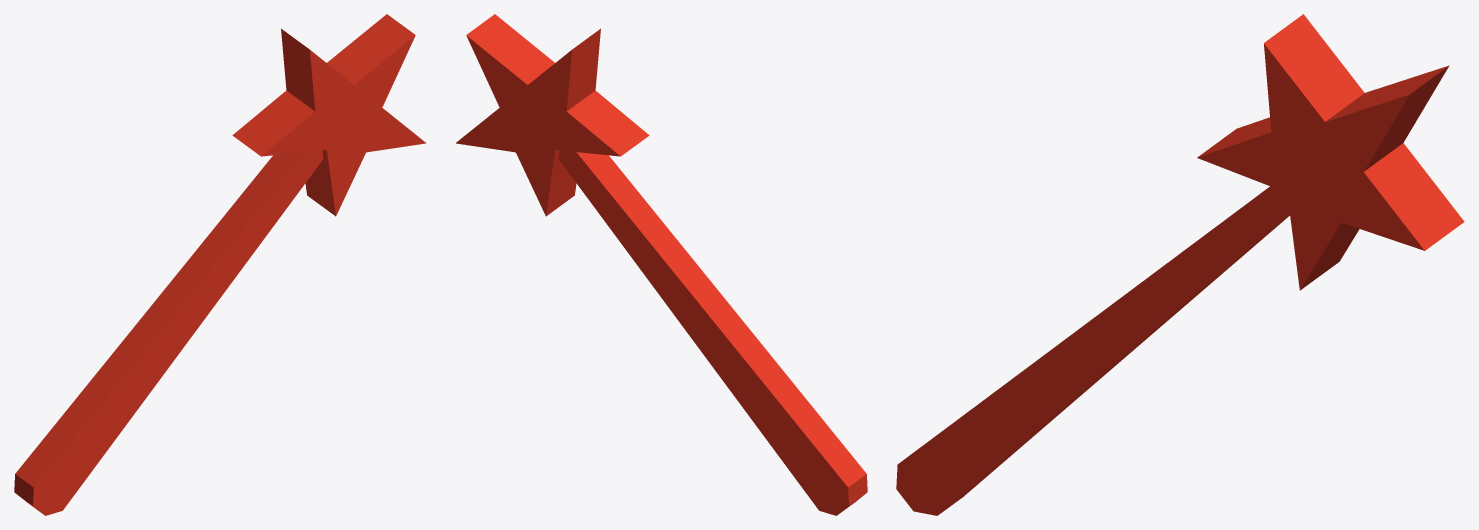
The model's file is Icon_MagicWand.fbx.
The picture shows the model from 3 angles, left to right: view 1: azimuth 30°, elevation 25°; view 2: azimuth 150°, elevation 25°; view 3: azimuth 330°, elevation 25°; orthographic projection. The views are drawn at different scales.
Parts seen in each view (by area): view 1: Icon_MagicWand; view 2: Icon_MagicWand; view 3: Icon_MagicWand.
Part boxes in pixels (bbox=[...]): Icon_MagicWand: bbox=[14, 14, 425, 515]; Icon_MagicWand: bbox=[456, 14, 867, 515]; Icon_MagicWand: bbox=[896, 14, 1464, 515].
Size of the model in its own units: 75.44 by 75.46 by 9.7.
